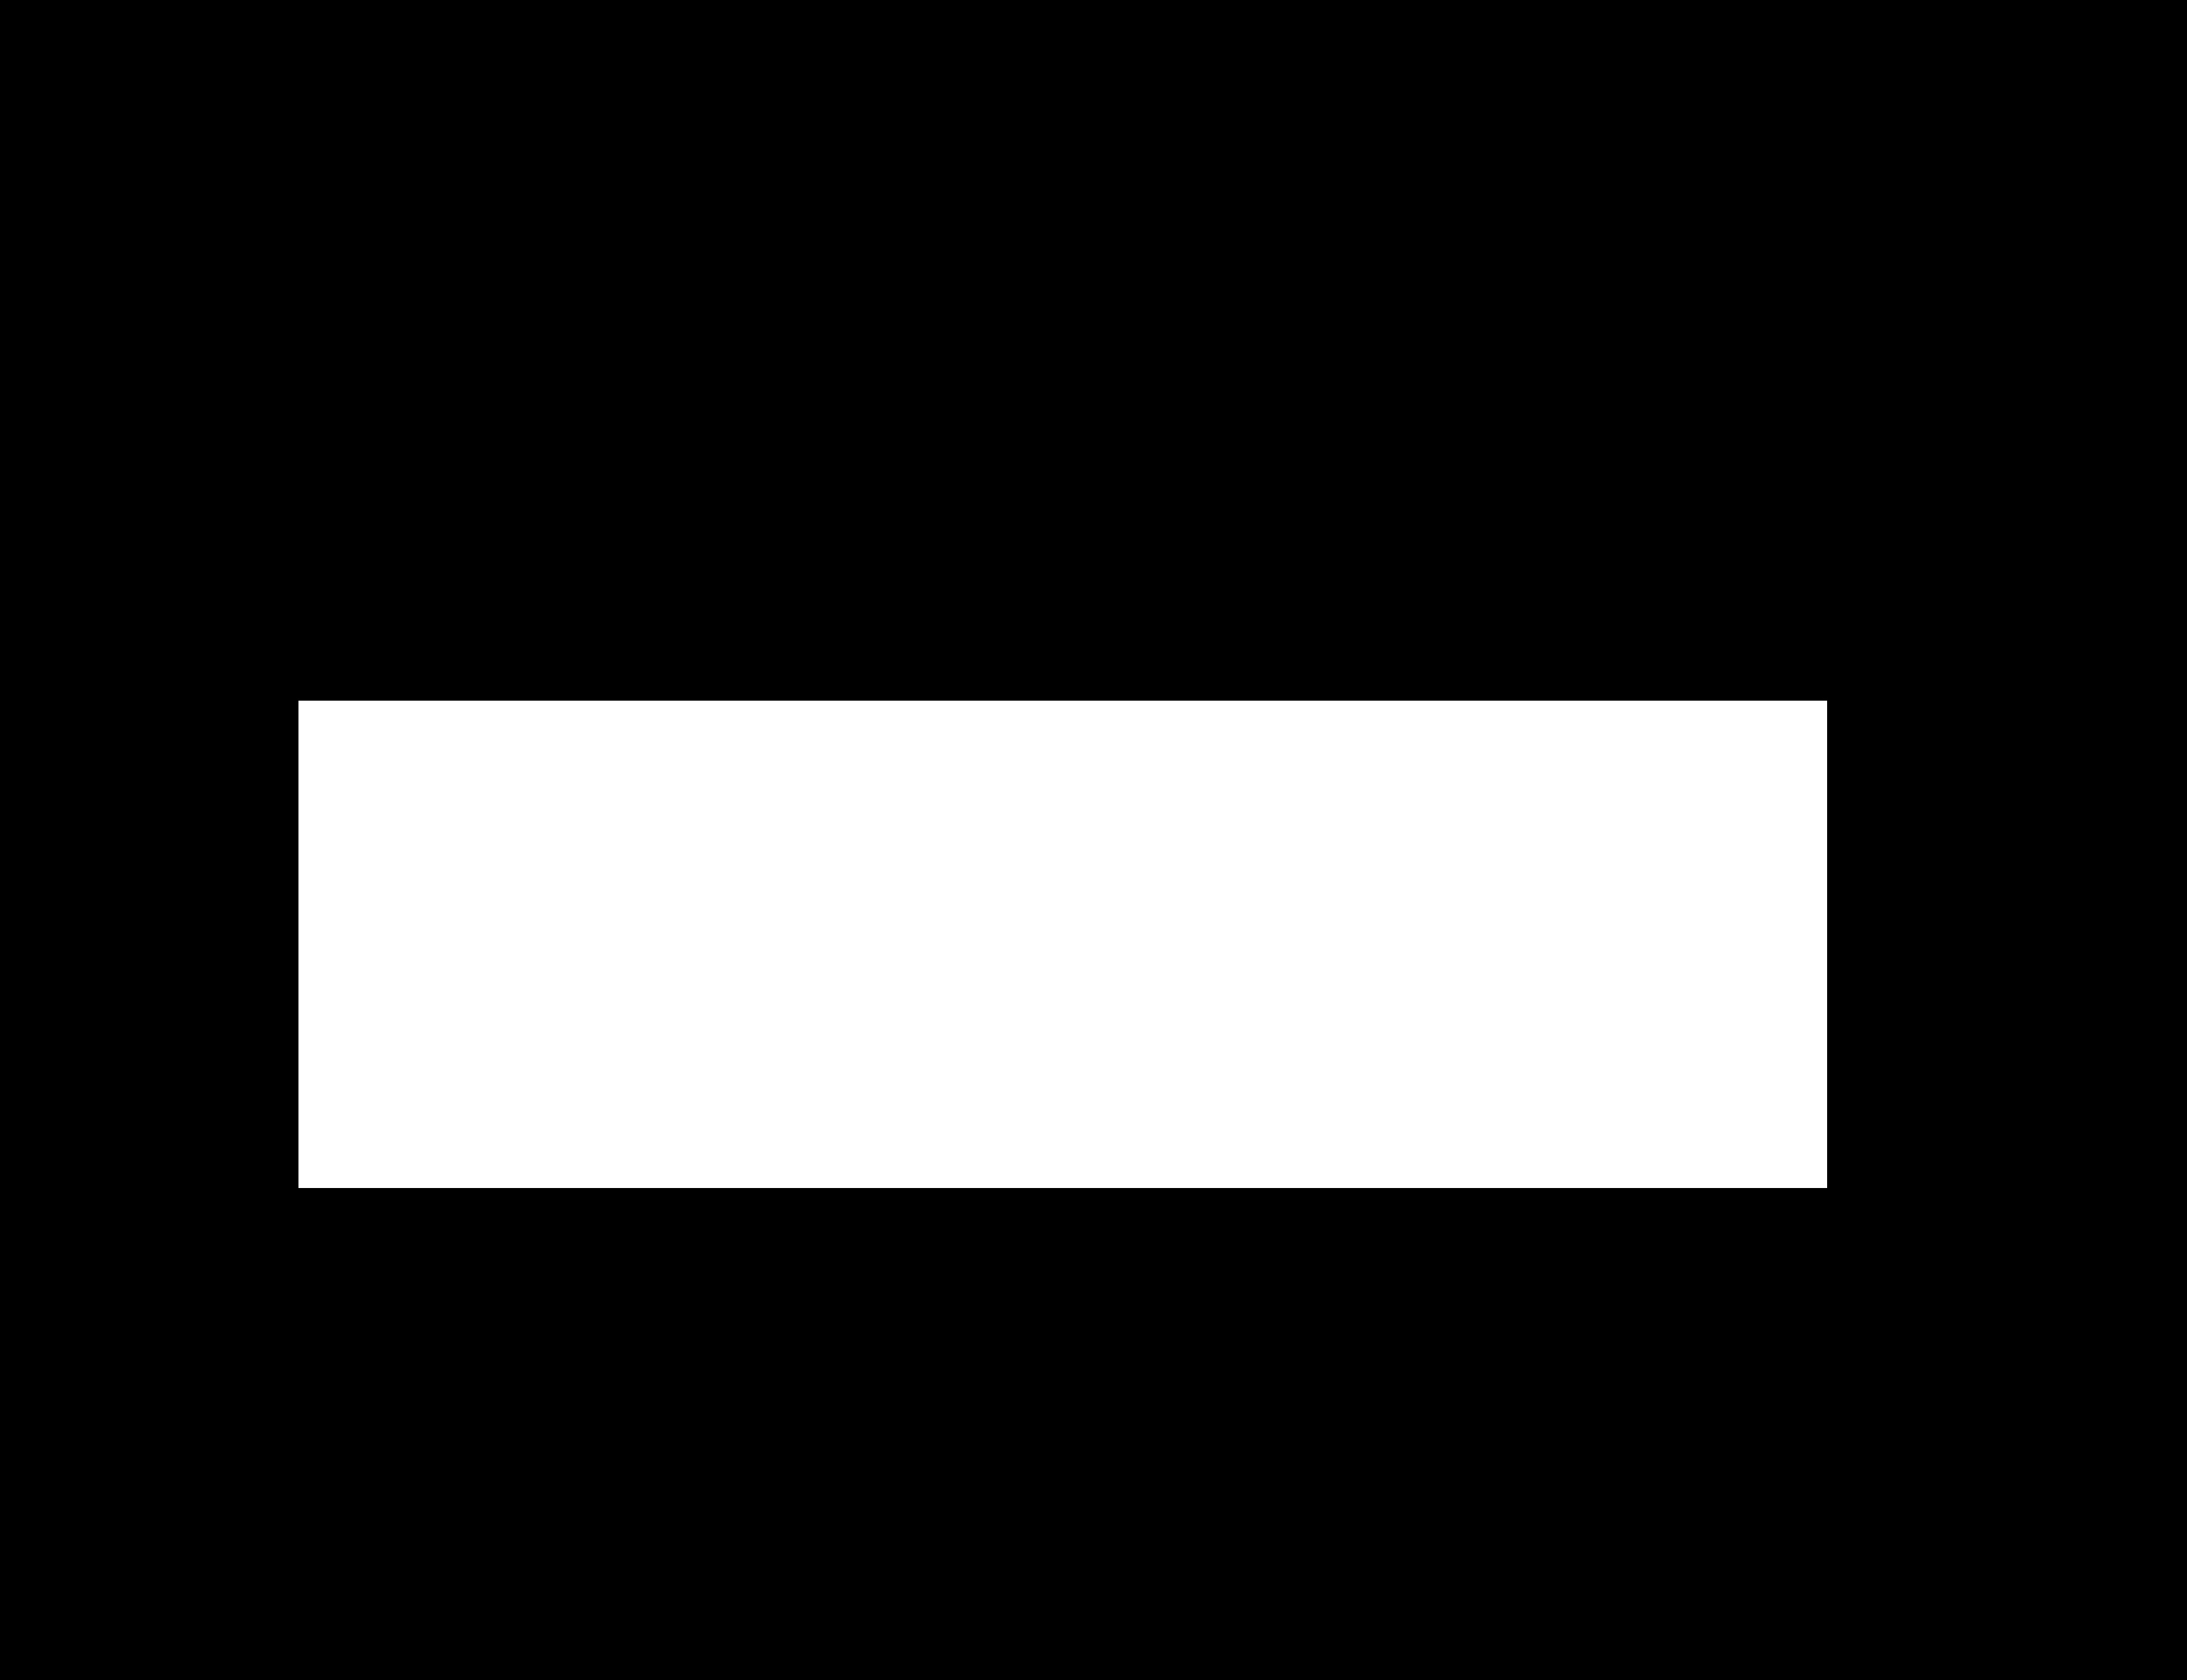table: (298, 701, 1827, 1188)
